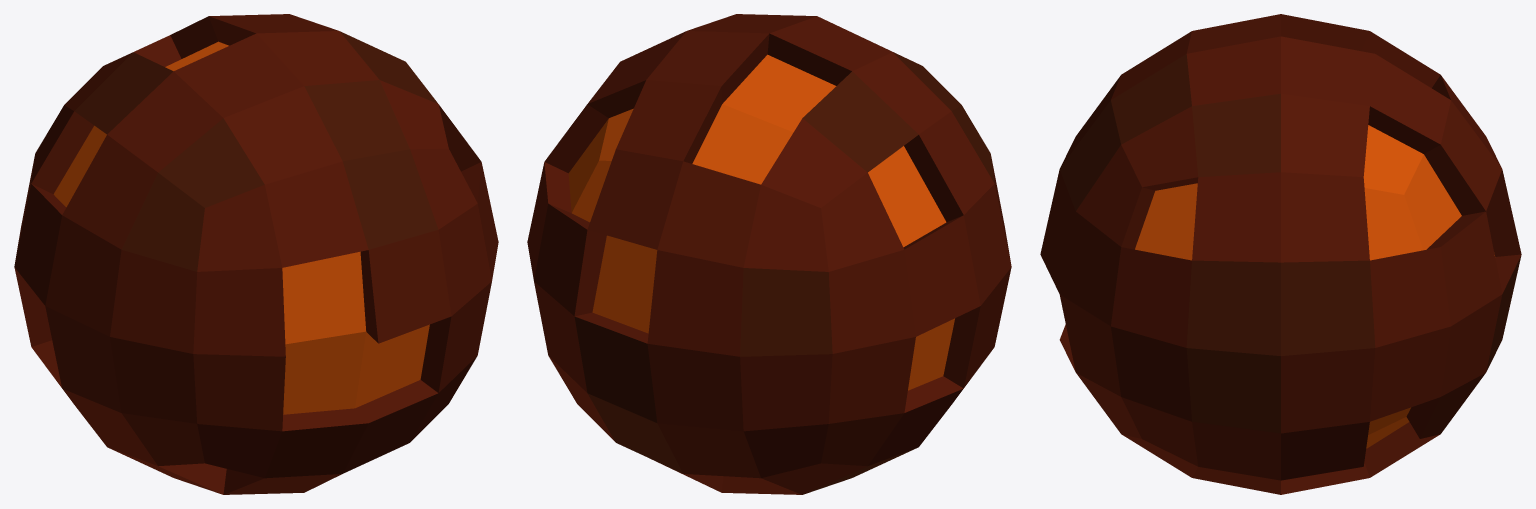
The model's file is fireball.fbx.
3 views of the same model, side by side, from view 1: azimuth 30°, elevation 25°; view 2: azimuth 150°, elevation 25°; view 3: azimuth 270°, elevation 25° (orthographic).
Visible parts, largest first — view 1: Cube; view 2: Cube; view 3: Cube.
Part boxes in pixels (bbox=[...]): Cube: bbox=[14, 14, 498, 494]; Cube: bbox=[527, 14, 1011, 494]; Cube: bbox=[1040, 14, 1521, 494].
Bounding box in the file's own units: 40.19 × 40.19 × 40.19.
